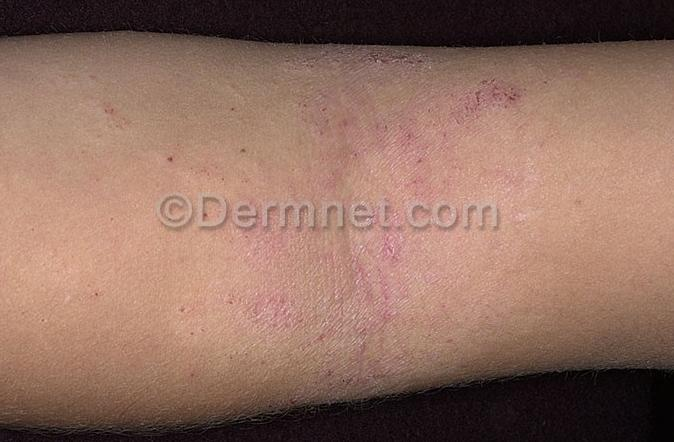eritema 1: (207, 38, 518, 419)
excoriacion 1: (192, 39, 526, 417)
xerosis 1: (188, 34, 531, 419)
